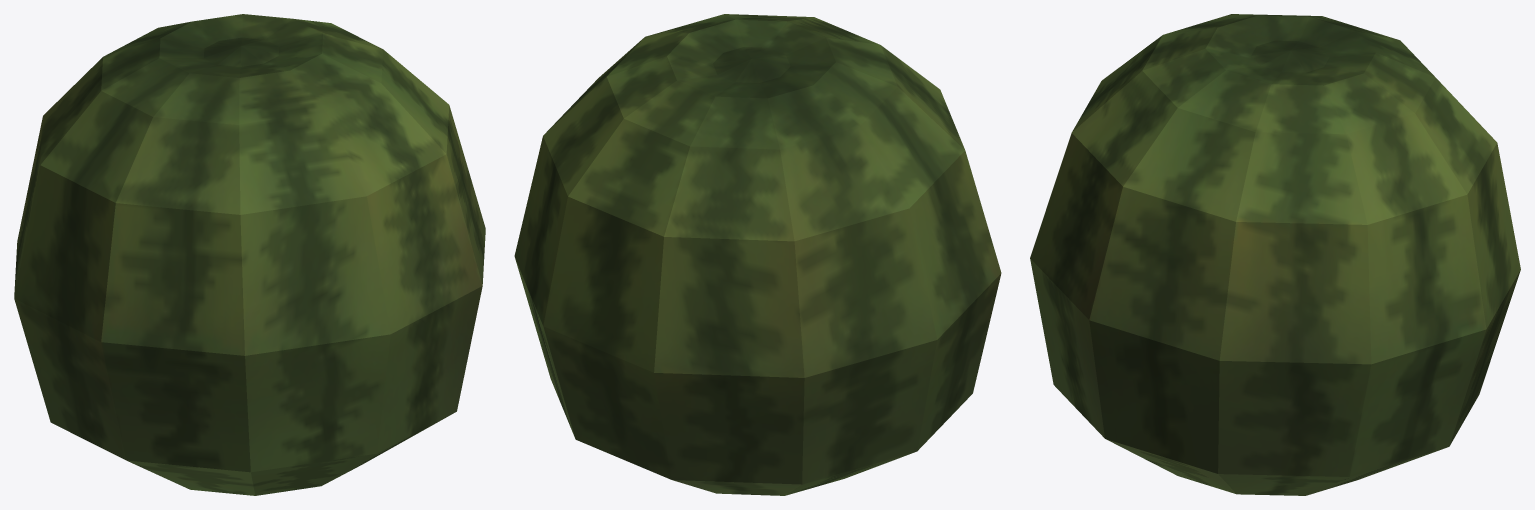
The model's file is FRM0110020.fbx.
3 renders of one model, left to right at view 1: azimuth 30°, elevation 25°; view 2: azimuth 150°, elevation 25°; view 3: azimuth 270°, elevation 25°, orthographic.
Visible parts, largest first — view 1: smFRM0110020; view 2: smFRM0110020; view 3: smFRM0110020.
Boxes of the visible parts, left/top/right/bottom form: smFRM0110020: left=14, top=14, right=485, bottom=495; smFRM0110020: left=514, top=14, right=1001, bottom=495; smFRM0110020: left=1030, top=14, right=1520, bottom=495.
Size of the model in its own units: 67.2 by 63.28 by 68.6.
1 material, 1 textured.
